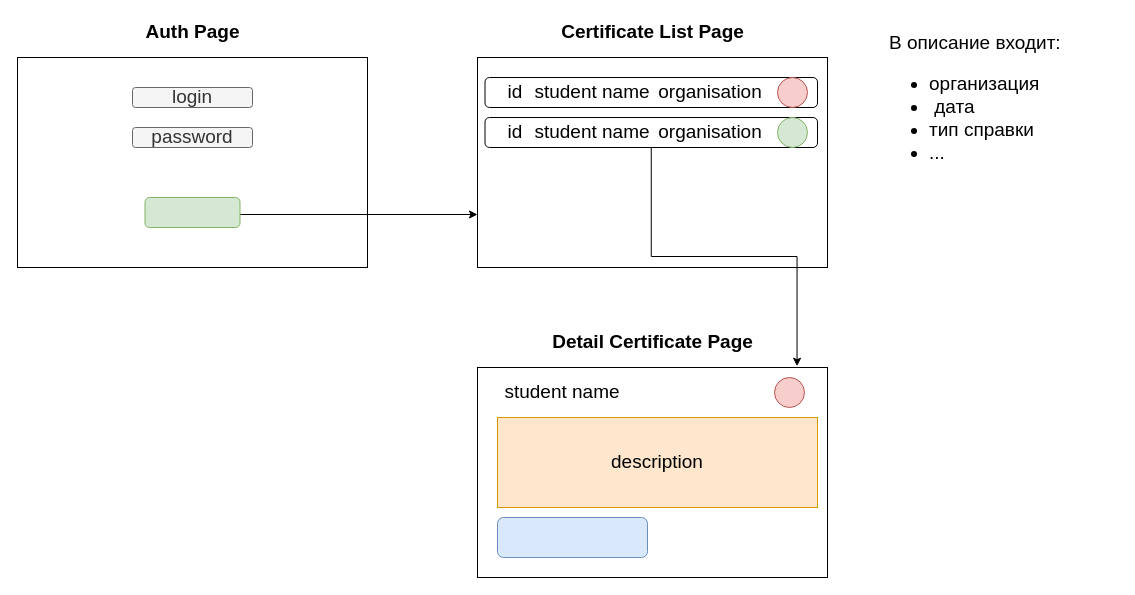
Image size: 1135x595. Some labels were removed from this diagram. The centre of each missing label's shape, as x and y in pixels:
give a certificate: the point at 572,537
Submit: the point at 192,212
